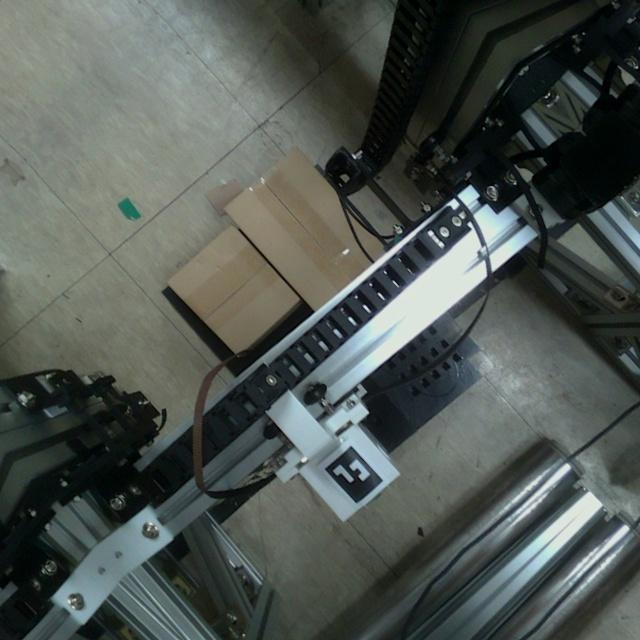box: (160, 216, 308, 365)
